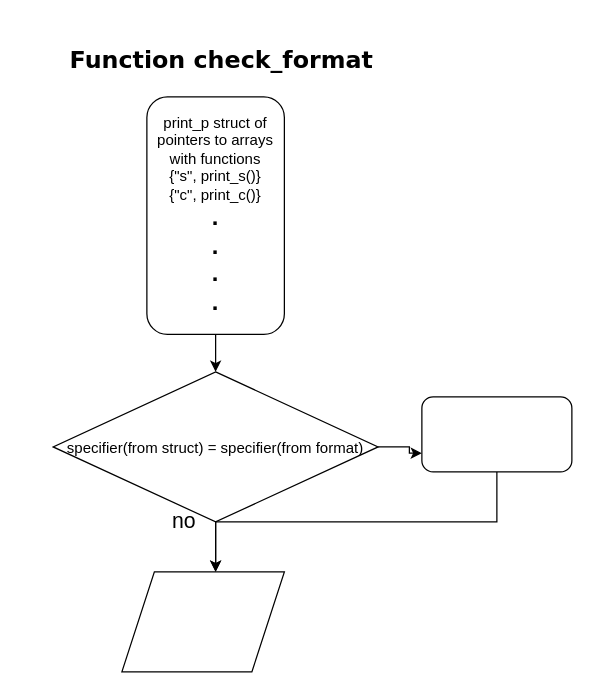
Some shapes in this 594 by 694 pixel diagram are drawn without their labels. The box of each missing label's shape, as (x1, y1, x2, y2) in pixels:
break i++: (421, 396, 572, 472)
return function for print(from struct): (121, 571, 284, 672)
